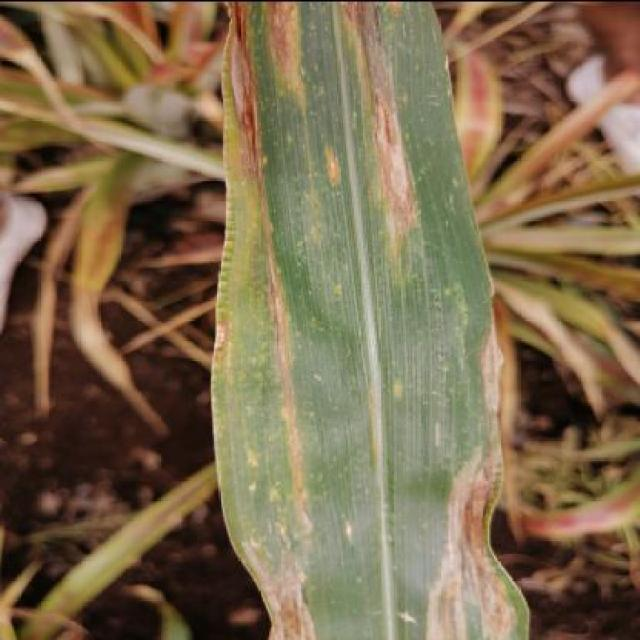Corn_Leaf_Blight: (217, 0, 521, 640)
